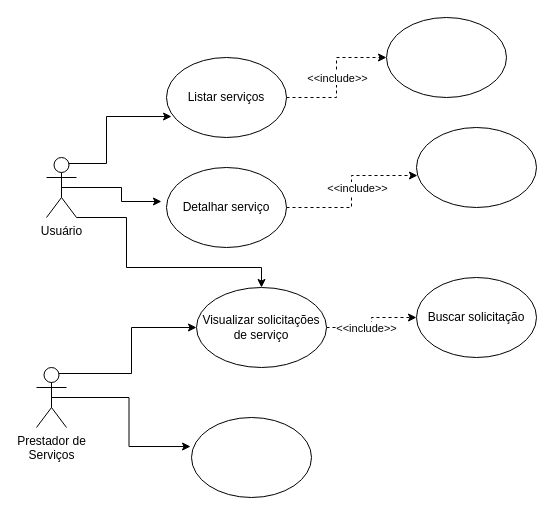
Some shapes in this 554 by 515 pixel diagram are drawn without their labels. The centre of each missing label's shape, as x and y in pixels:
Buscar serviço: [446,57]
Cadastrar serviço: [251,457]
Solicitar serviço: [476,167]
